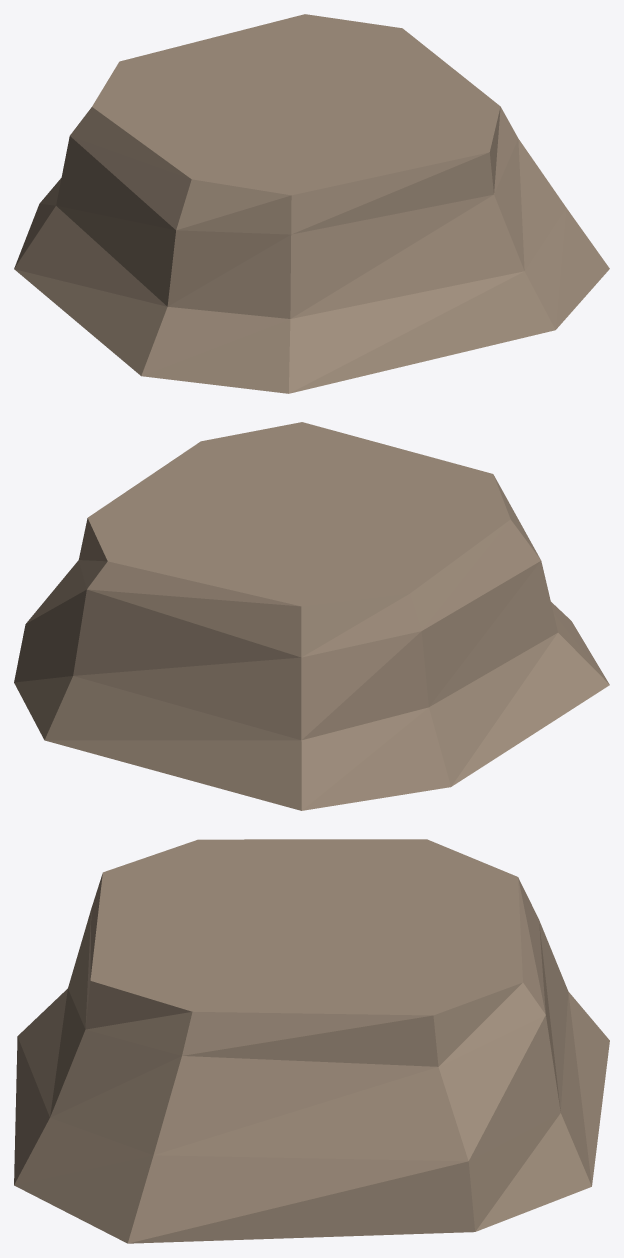
The model's file is magma_escape_rock_3.obj.
3 renders of one model, top to bottom at view 1: azimuth 30°, elevation 25°; view 2: azimuth 150°, elevation 25°; view 3: azimuth 270°, elevation 25°, orthographic. The views are drawn at different scales.
Parts seen in each view (by area): view 1: magma_escape_rock_3; view 2: magma_escape_rock_3; view 3: magma_escape_rock_3.
Part boxes in pixels (bbox=[...]): magma_escape_rock_3: bbox=[14, 14, 609, 393]; magma_escape_rock_3: bbox=[14, 422, 609, 810]; magma_escape_rock_3: bbox=[14, 839, 609, 1243].
Size of the model in its own units: 2.99 by 1 by 2.9.
